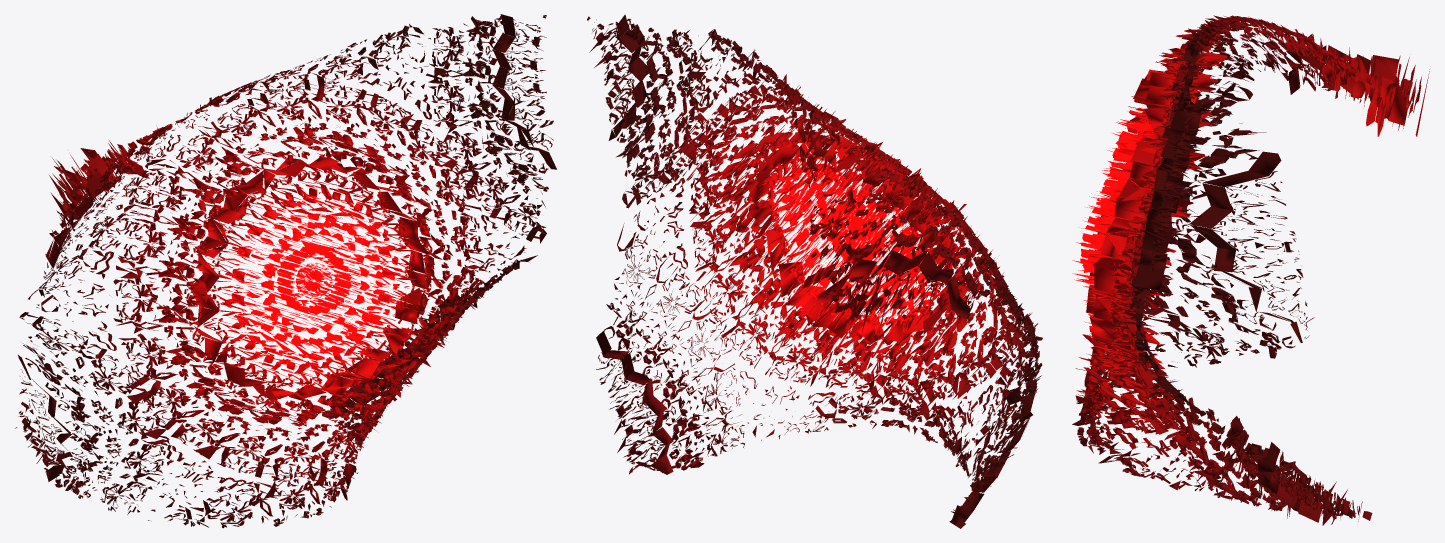
Rendered from angry-napkin-red-v98.glb.
3 views of the same model, side by side, from view 1: azimuth 30°, elevation 25°; view 2: azimuth 150°, elevation 25°; view 3: azimuth 270°, elevation 25° (orthographic). The views are drawn at different scales.
Visible parts, largest first — view 1: RED; view 2: RED; view 3: RED.
Boxes of the visible parts, left/top/right/bottom form: RED: left=15, top=14, right=556, bottom=528; RED: left=587, top=14, right=1042, bottom=528; RED: left=1072, top=15, right=1429, bottom=525.
Size of the model in its own units: 3.88 by 3.18 by 2.14.
Materials: 1 (1 with a texture image).
